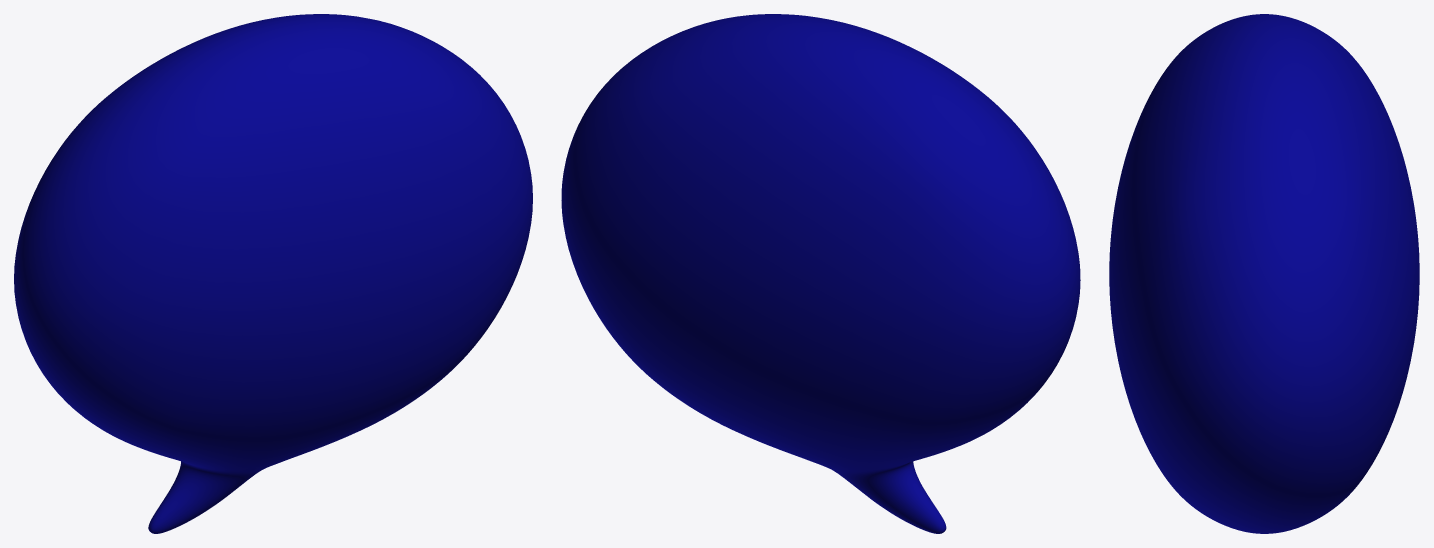
The model's file is chat.glb.
The picture shows the model from 3 angles, left to right: view 1: azimuth 30°, elevation 25°; view 2: azimuth 150°, elevation 25°; view 3: azimuth 270°, elevation 25°; orthographic projection. The views are drawn at different scales.
Parts seen in each view (by area): view 1: Chat-Only; view 2: Chat-Only; view 3: Chat-Only.
Boxes of the visible parts, x1,y1,x2,y2 form: Chat-Only: [14, 14, 532, 533]; Chat-Only: [561, 14, 1080, 533]; Chat-Only: [1109, 14, 1419, 533].
Bounding box in the file's own units: 1.89 × 1.74 × 0.9543.
